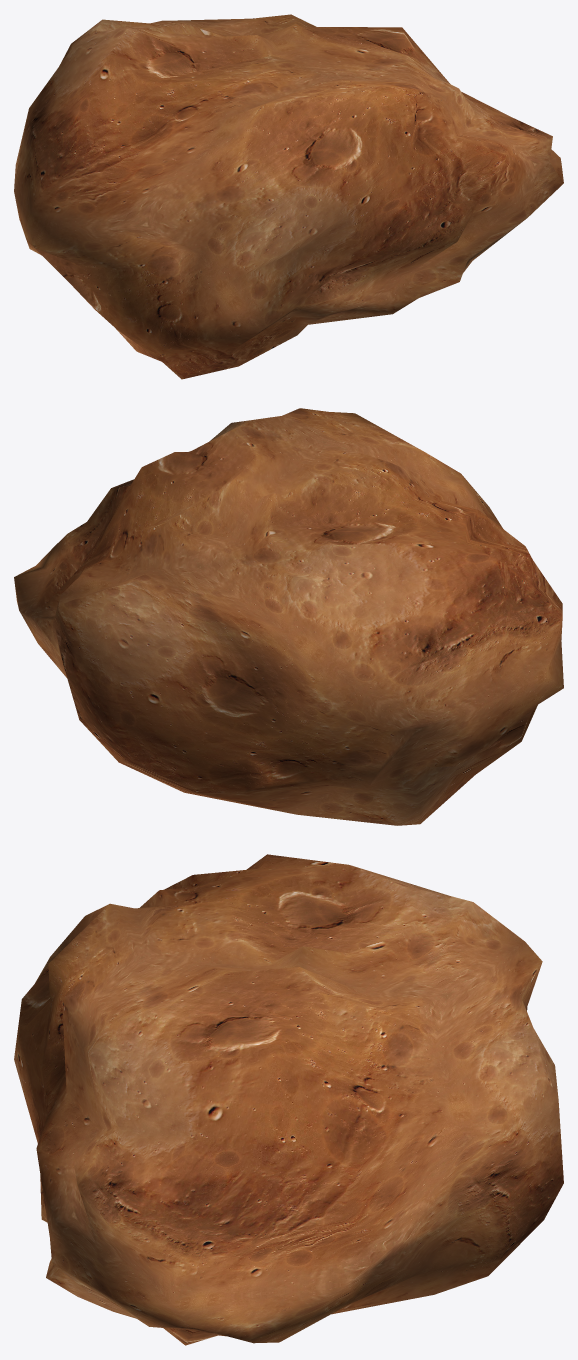
File: Asteroid_04_L2.FBX
3 renders of one model, top to bottom at view 1: azimuth 30°, elevation 25°; view 2: azimuth 150°, elevation 25°; view 3: azimuth 270°, elevation 25°, orthographic. The views are drawn at different scales.
Parts seen in each view (by area): view 1: Asteroid; view 2: Asteroid; view 3: Asteroid.
Part boxes in pixels (left/top/right/bottom): Asteroid: left=14, top=14, right=563, bottom=379; Asteroid: left=14, top=408, right=563, bottom=825; Asteroid: left=14, top=854, right=563, bottom=1345.
Size of the model in its own units: 3.01 by 1.66 by 2.15.
